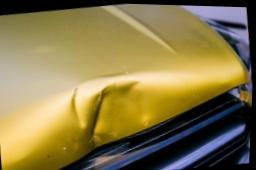Bonnet: (0, 0, 256, 167)
